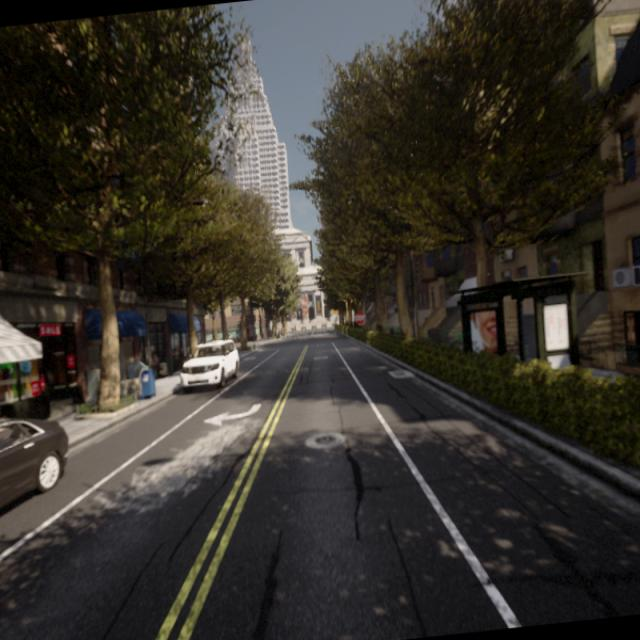stop sign: (352, 308, 366, 326)
